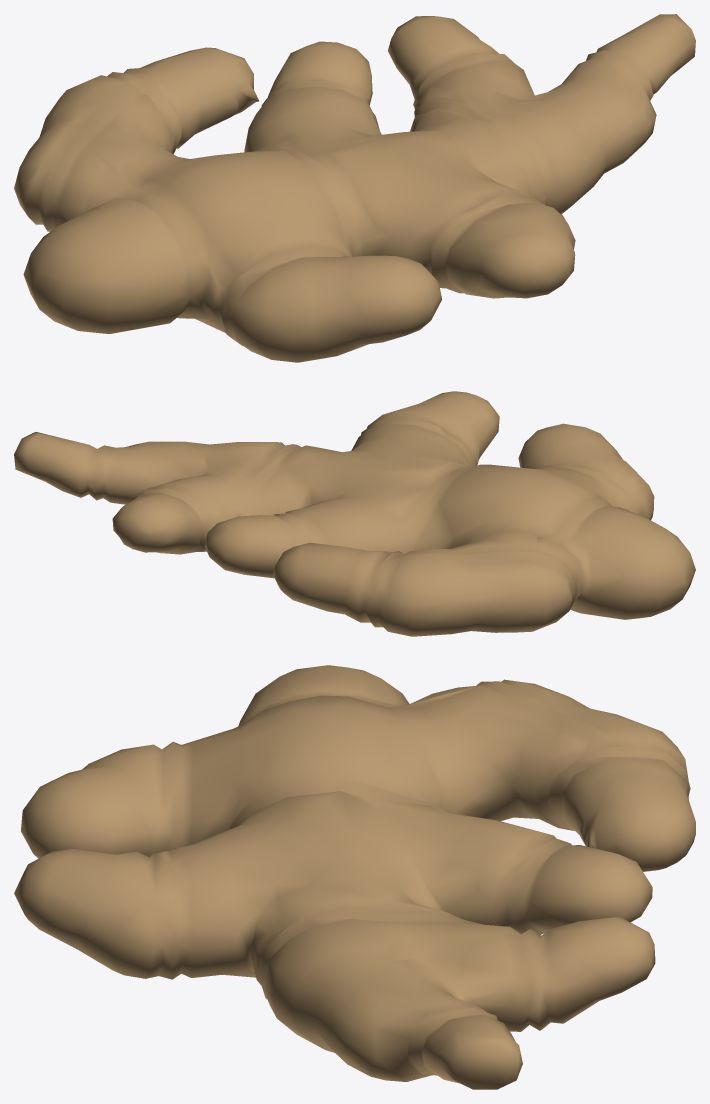
File: NEW_RECOVERY_061_LOD1.glb
3 renders of one model, top to bottom at view 1: azimuth 30°, elevation 25°; view 2: azimuth 150°, elevation 25°; view 3: azimuth 270°, elevation 25°, orthographic. The views are drawn at different scales.
Parts seen in each view (by area): view 1: Ginger_whole_solid; view 2: Ginger_whole_solid; view 3: Ginger_whole_solid.
Boxes of the visible parts, box(x1,y1,x2,y2) form: Ginger_whole_solid: box(14, 14, 695, 362); Ginger_whole_solid: box(14, 391, 695, 636); Ginger_whole_solid: box(14, 665, 695, 1089).
Size of the model in its own units: 0.2166 by 0.0398 by 0.1527.
